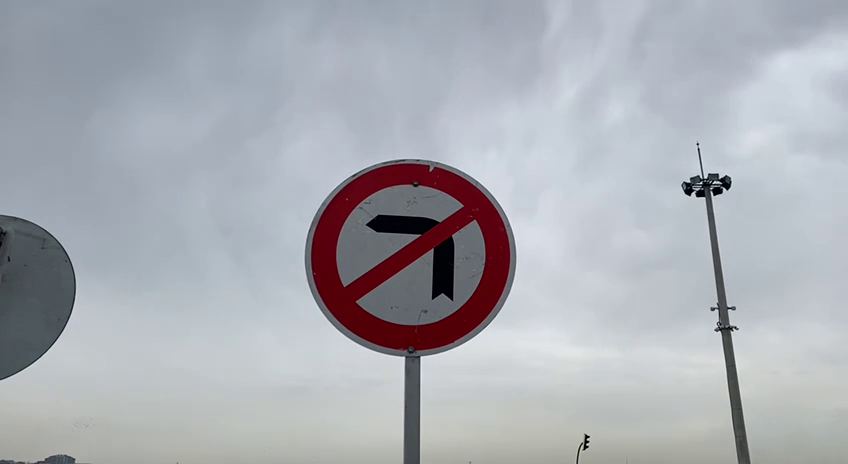noTurnLeft: (302, 157, 520, 357)
